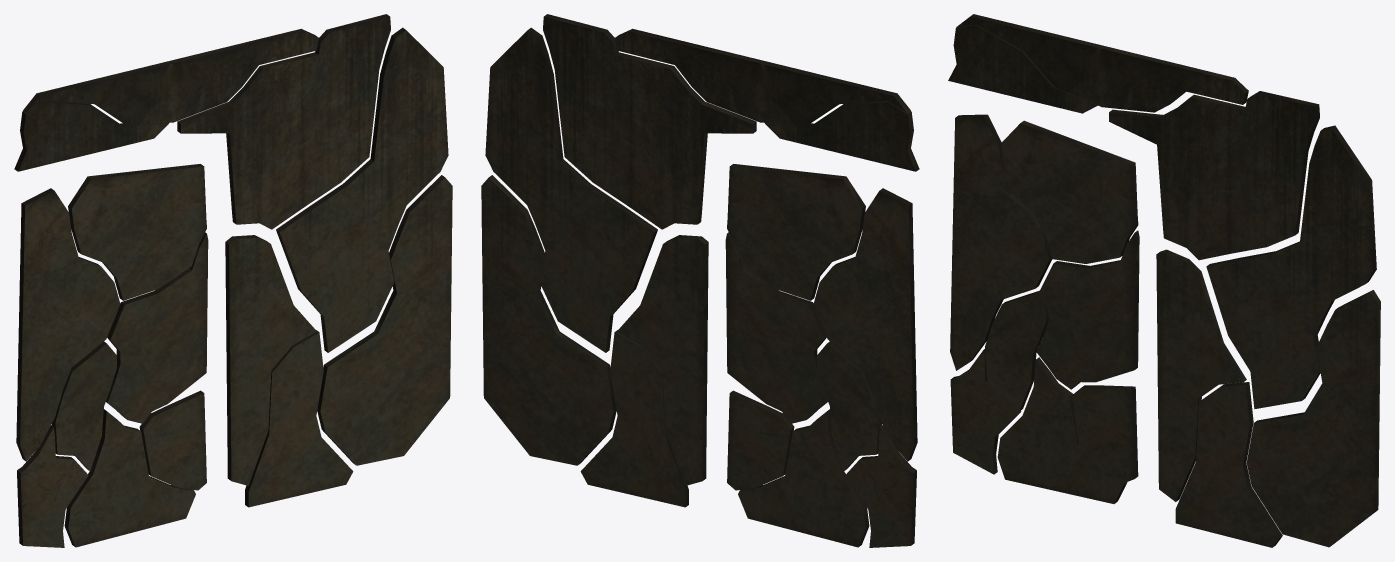
Rendered from 03_02_containment_cube_glass_shards_front.dae.
3 views of the same model, side by side, from view 1: azimuth 30°, elevation 25°; view 2: azimuth 150°, elevation 25°; view 3: azimuth 330°, elevation 25° (orthographic).
Visible parts, largest first — view 1: shards_front; view 2: shards_front; view 3: shards_front.
Part boxes in pixels (left/top/right/bottom): shards_front: left=14, top=14, right=452, bottom=547; shards_front: left=481, top=14, right=919, bottom=547; shards_front: left=948, top=14, right=1380, bottom=547.
Size of the model in its own units: 3.2 by 3.26 by 0.047.
